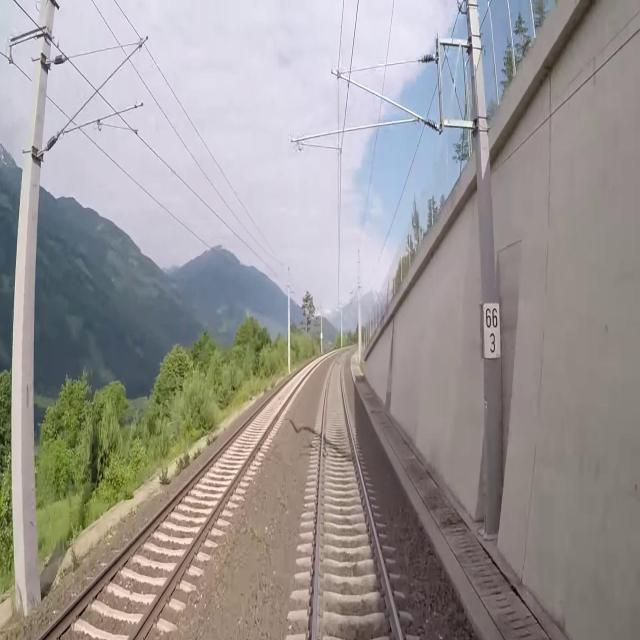rail-track: (44, 364, 311, 639), (317, 355, 398, 639)
